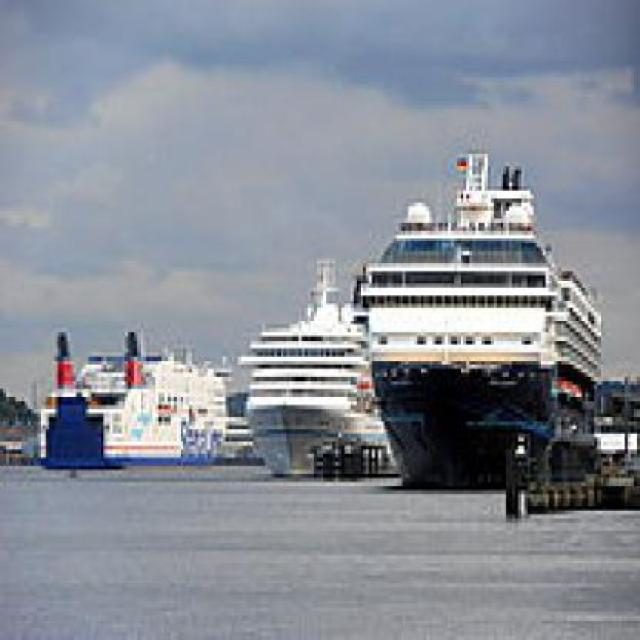cruise: (348, 147, 620, 496), (233, 248, 394, 491), (40, 313, 239, 487)
